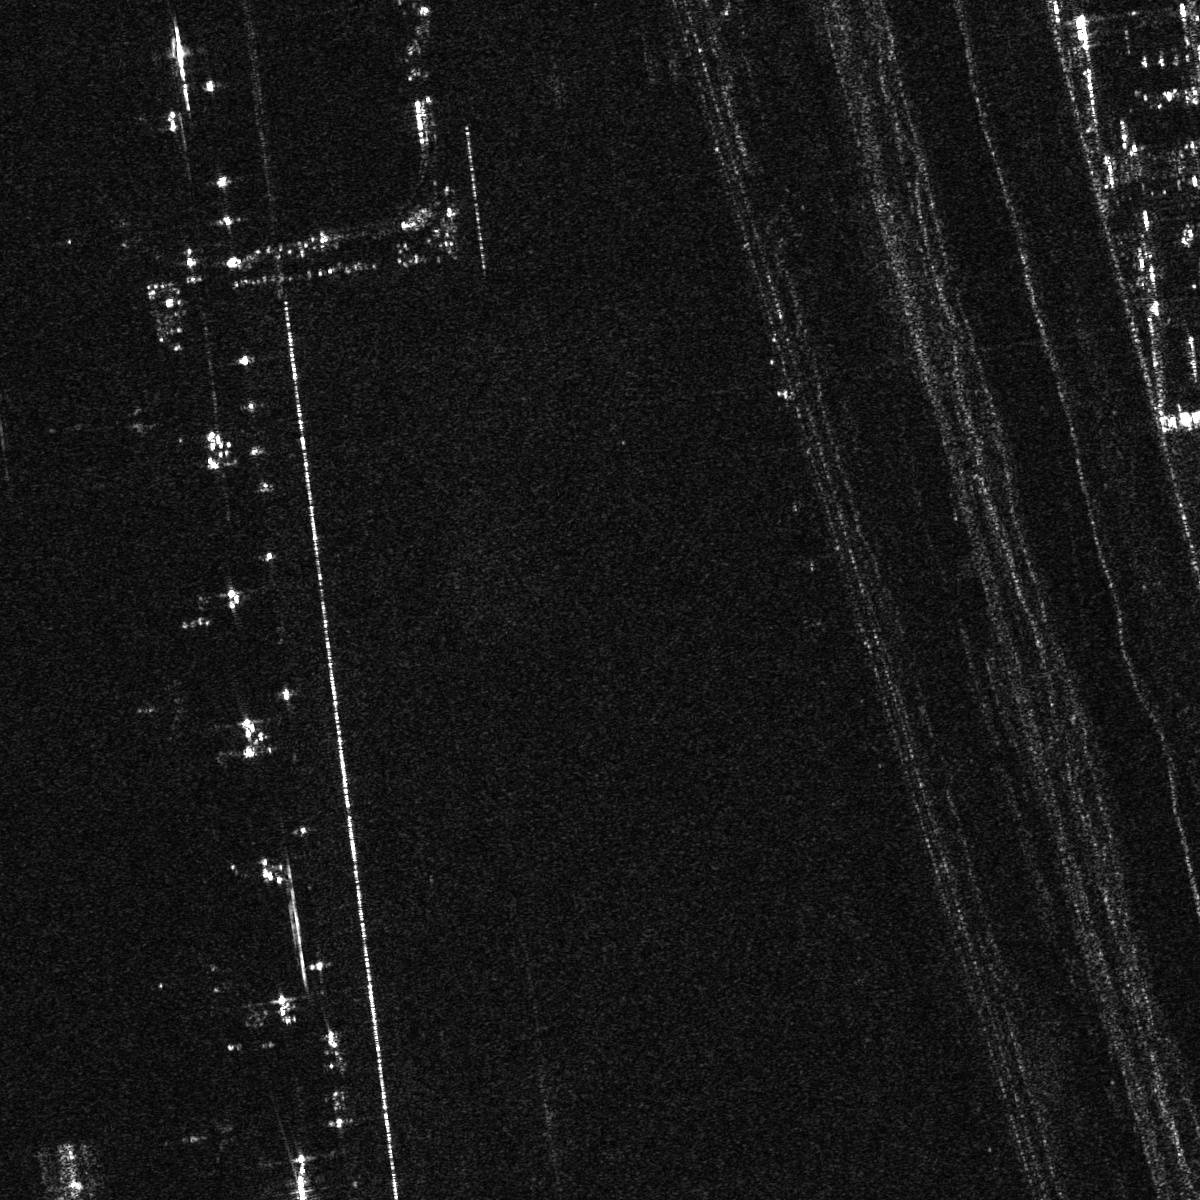A220: (162, 1098, 251, 1177)
Boeing787: (129, 668, 205, 744)
